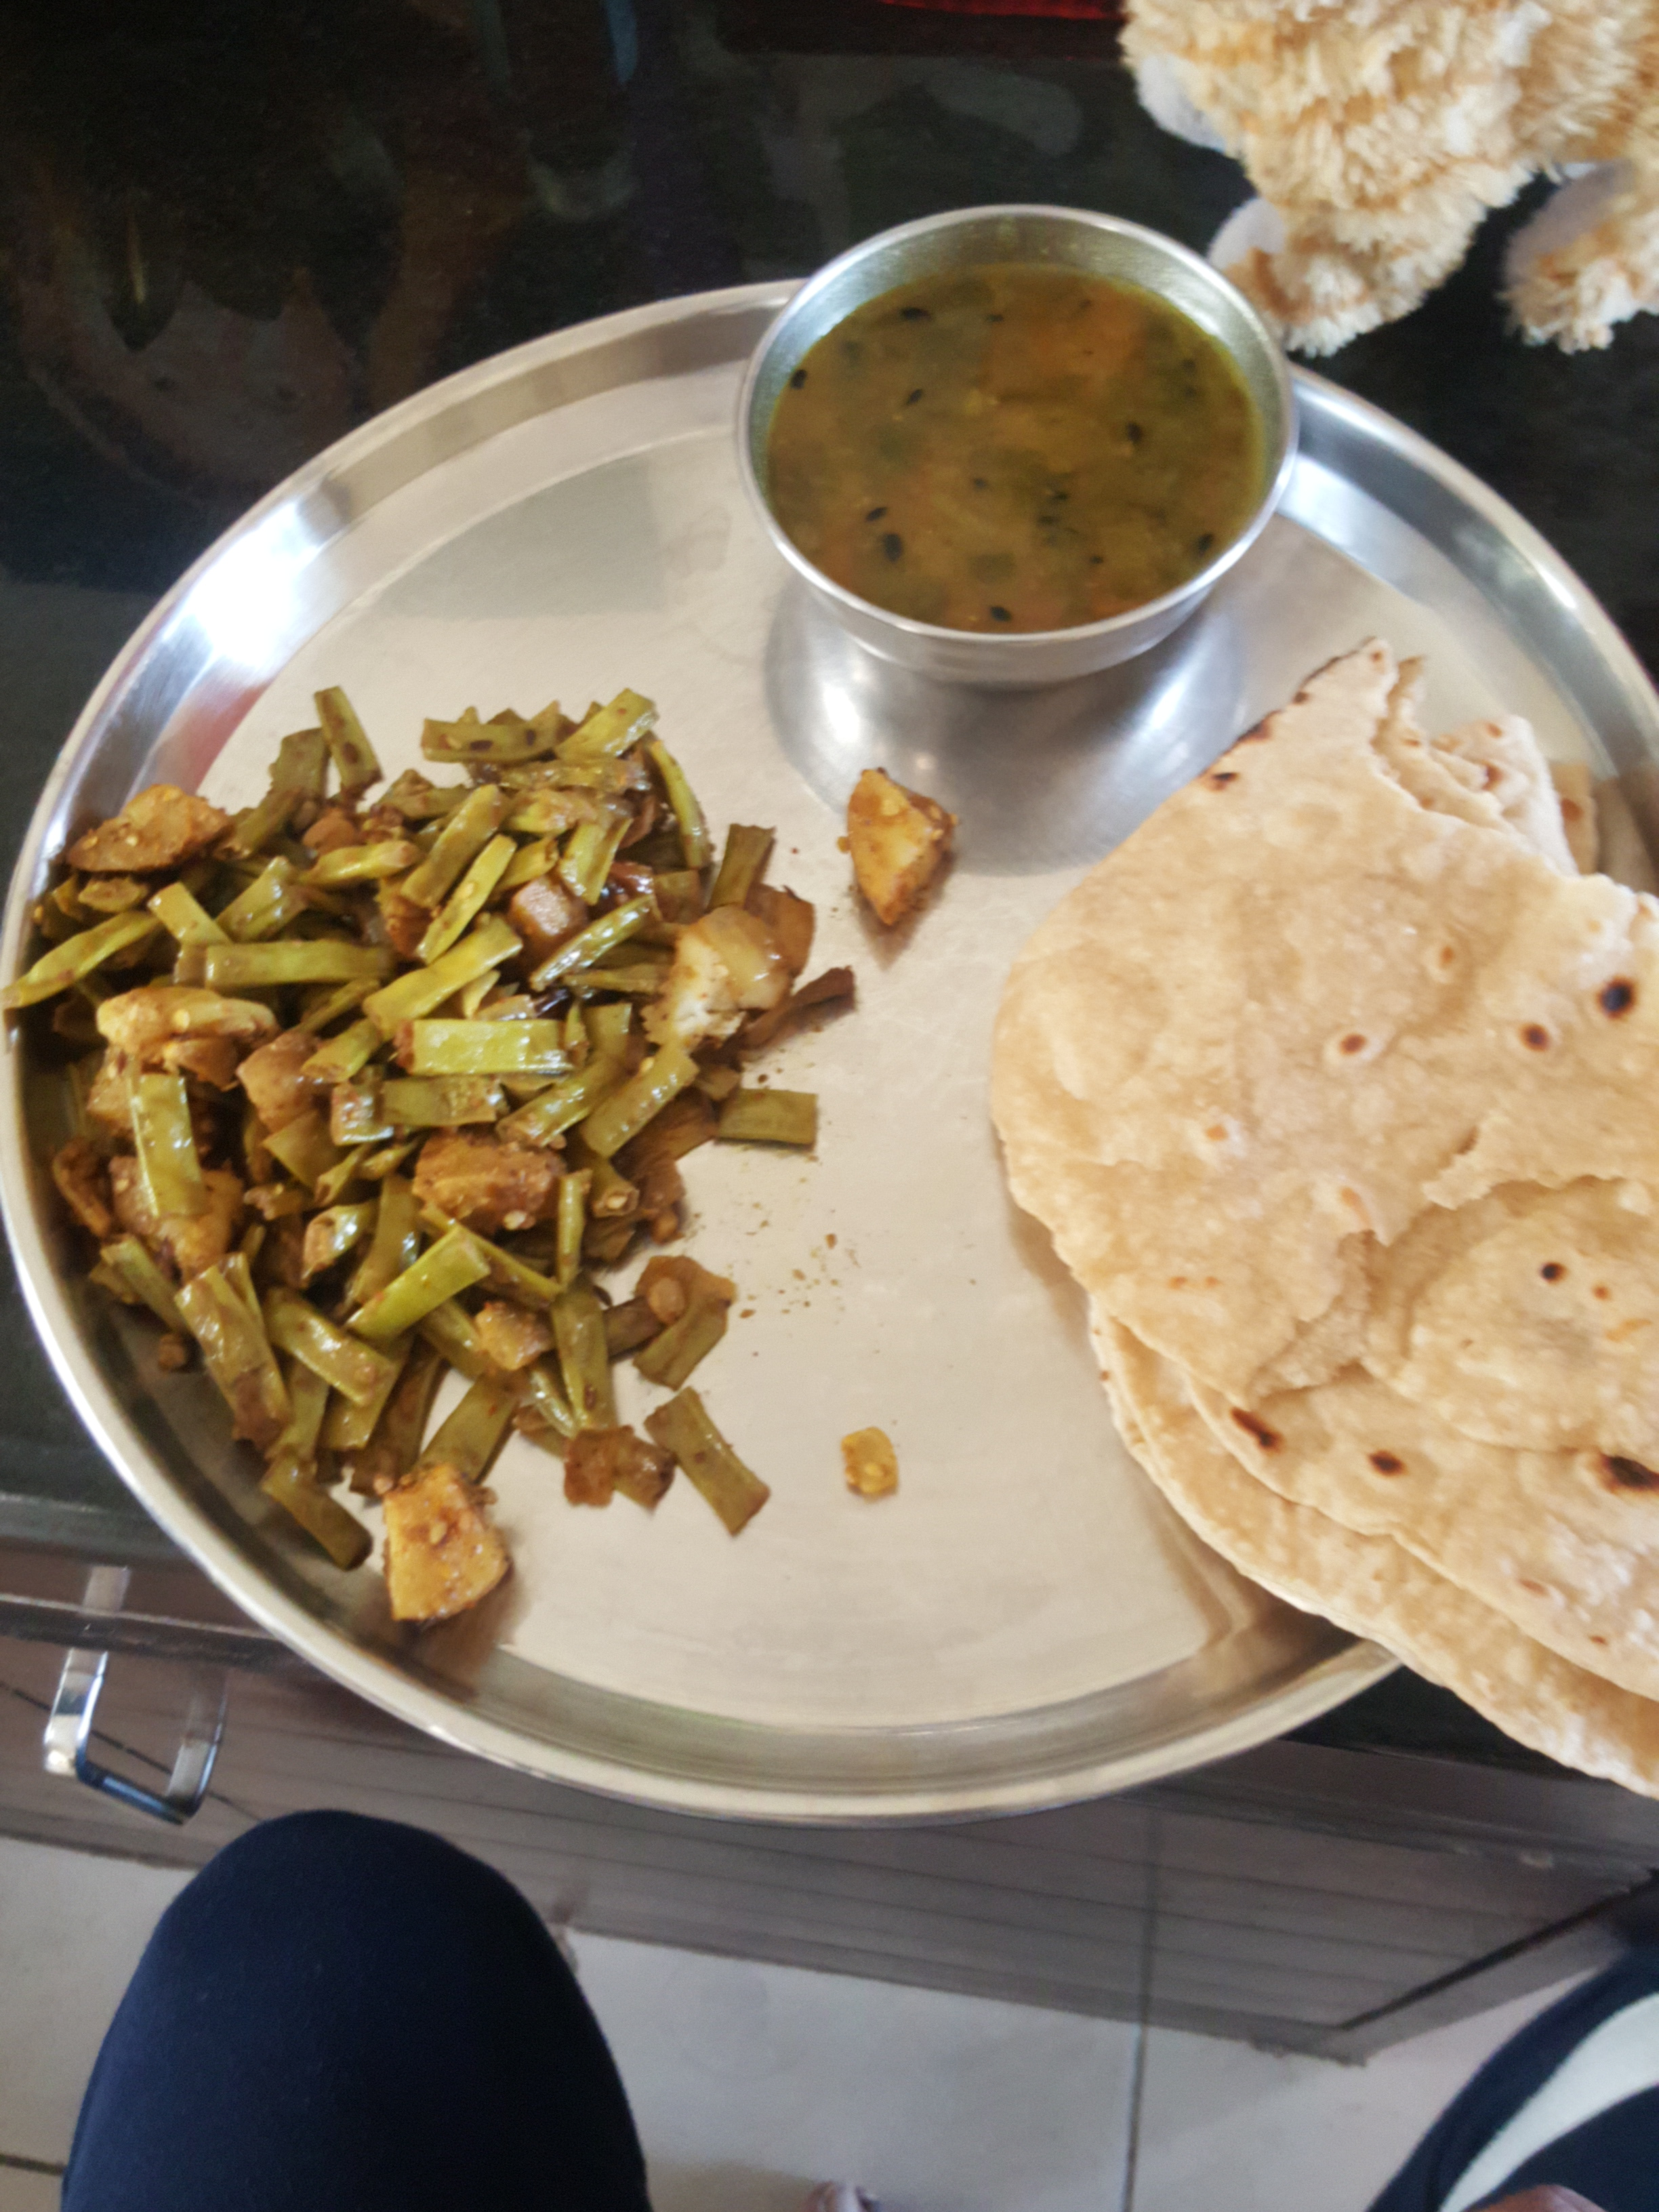food: (0, 247, 1659, 1843)
